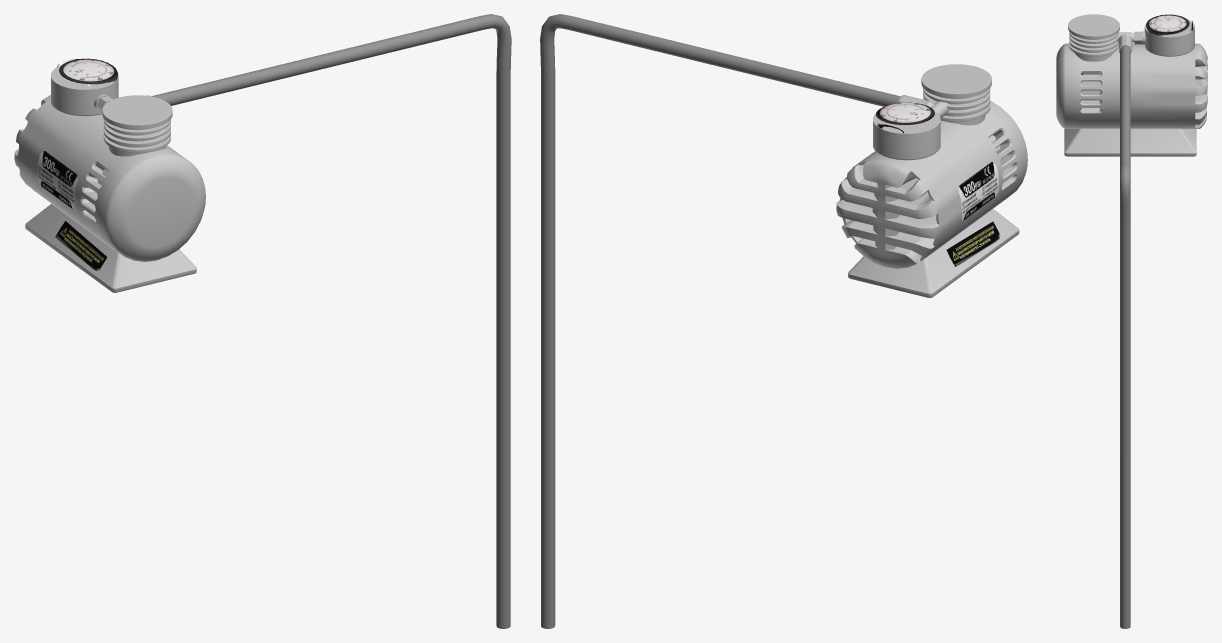
Rendered from Maquina-aire.fbx.
3 renders of one model, left to right at view 1: azimuth 30°, elevation 25°; view 2: azimuth 150°, elevation 25°; view 3: azimuth 270°, elevation 25°, orthographic. The views are drawn at different scales.
Parts seen in each view (by area): view 1: polySurface296, polySurface146; view 2: polySurface296, polySurface146; view 3: polySurface296, polySurface146.
Boxes of the visible parts, <box> form: polySurface296: <box>14,58,205,292</box>; polySurface146: <box>151,14,511,628</box>; polySurface296: <box>836,64,1027,297</box>; polySurface146: <box>540,14,900,628</box>; polySurface296: <box>1056,14,1207,156</box>; polySurface146: <box>1120,45,1130,628</box>.
Bounding box in the file's own units: 365 × 491 × 145.
